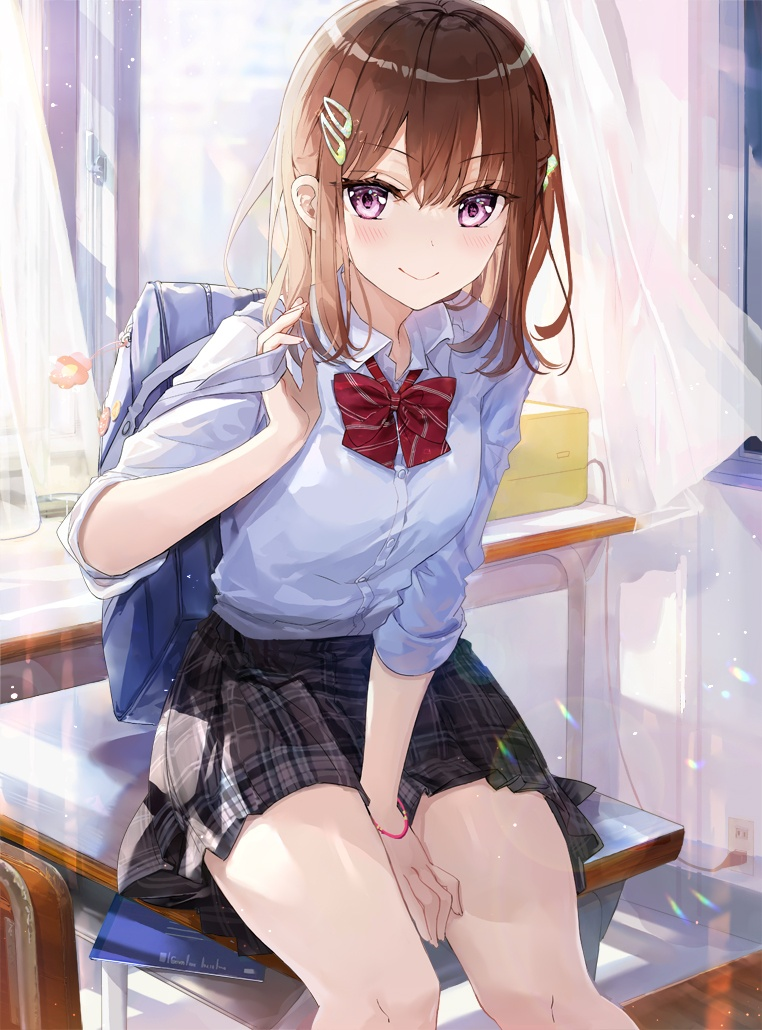纸片人正脸: (260, 0, 565, 325)
